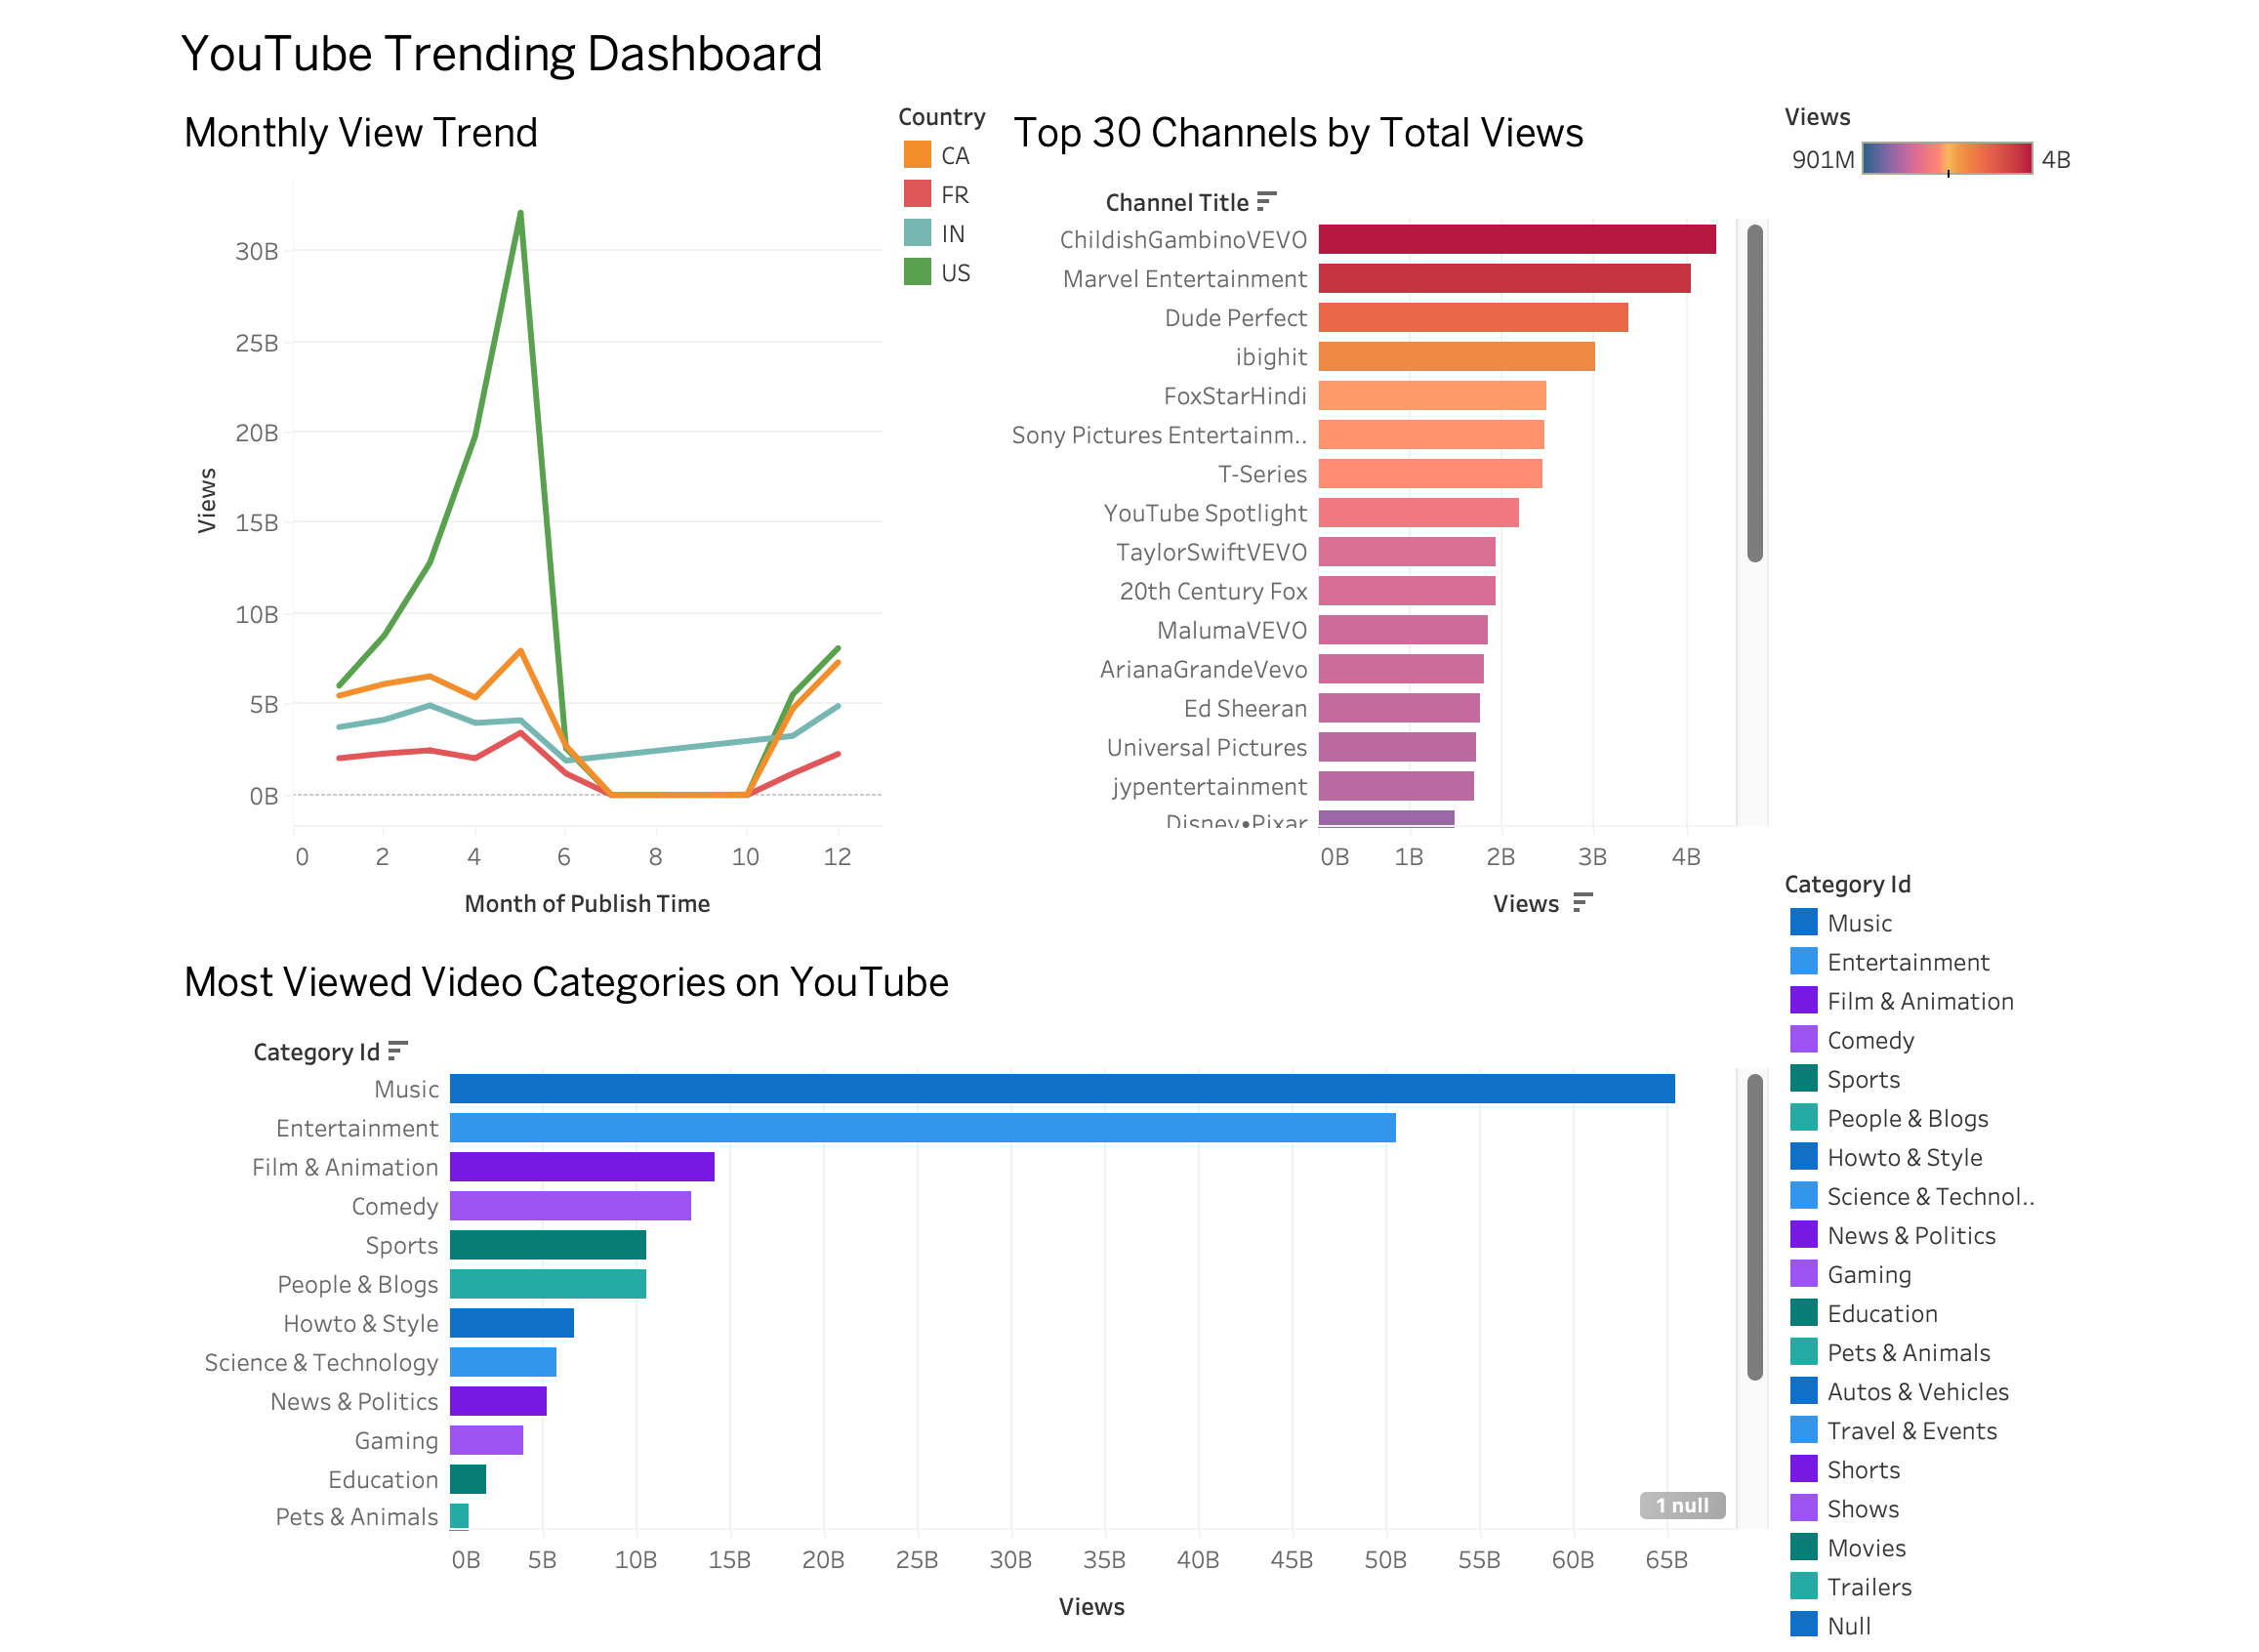

Layout of this report page (visuals, bound fields, positions):
{"tool":"tableau","page":{"name":"Dashboard 1","canvas":[1000,1000],"units":"permille","ordinal":0},"visuals":[{"type":"title","box":[8,10,984,48.8]},{"type":"worksheet","title":"Sheet 3","mark":"Automatic","rows":["views"],"cols":["publish_time"],"box":[8,58.8,370,509.5]},{"type":"legend","title":"Sheet 3","param":"[federated.0vvau4q0e75h2w12asn6p0fnv5c3].[none:country:nk]","box":[378,58.8,55,509.5]},{"type":"worksheet","title":"Sheet 2","mark":"Automatic","rows":["channel_title"],"cols":["views"],"box":[433,58.8,399,509.5]},{"type":"legend","title":"Sheet 2","param":"[federated.0vvau4q0e75h2w12asn6p0fnv5c3].[sum:views:qk]","box":[832,58.8,160,491.2]},{"type":"legend","title":"Sheet 1","param":"[federated.0vvau4q0e75h2w12asn6p0fnv5c3].[none:category_id:ok]","box":[832,550,160,440]},{"type":"worksheet","title":"Sheet 1","mark":"Automatic","rows":["category_id"],"cols":["views"],"box":[8,568.3,824,421.7]}]}

Visuals, with their boxes on the dashboard's canvas, which has no fixed pixel size, in thousandths of its width and height (x1, y1, x2, y2). These are canvas units, not pixel positions in the 2259x1652 screenshot, which may show the page scaled, cropped or inside an application window:
title: 8, 10, 992, 59
"Sheet 3" worksheet: 8, 59, 378, 568
"Sheet 3" legend: 378, 59, 433, 568
"Sheet 2" worksheet: 433, 59, 832, 568
"Sheet 2" legend: 832, 59, 992, 550
"Sheet 1" legend: 832, 550, 992, 990
"Sheet 1" worksheet: 8, 568, 832, 990
